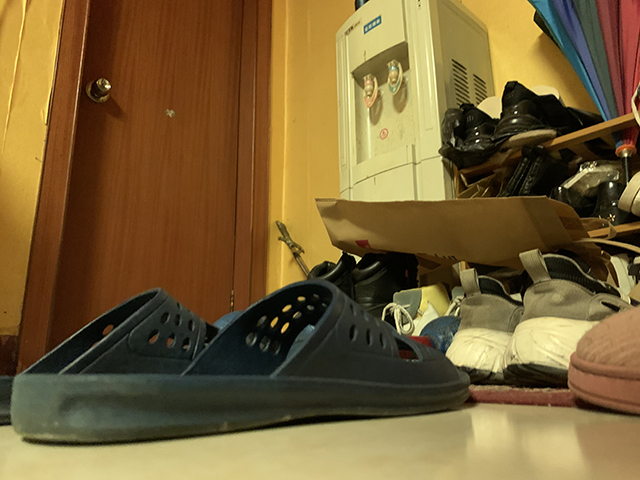slippers: (11, 274, 472, 446), (1, 282, 222, 424)
